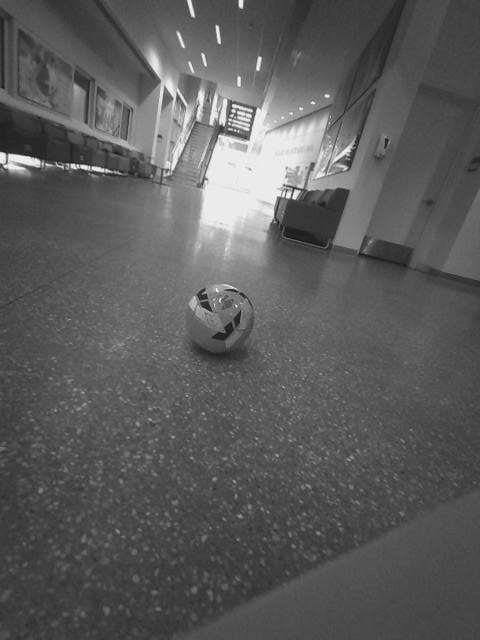ball: (267, 211, 288, 230)
